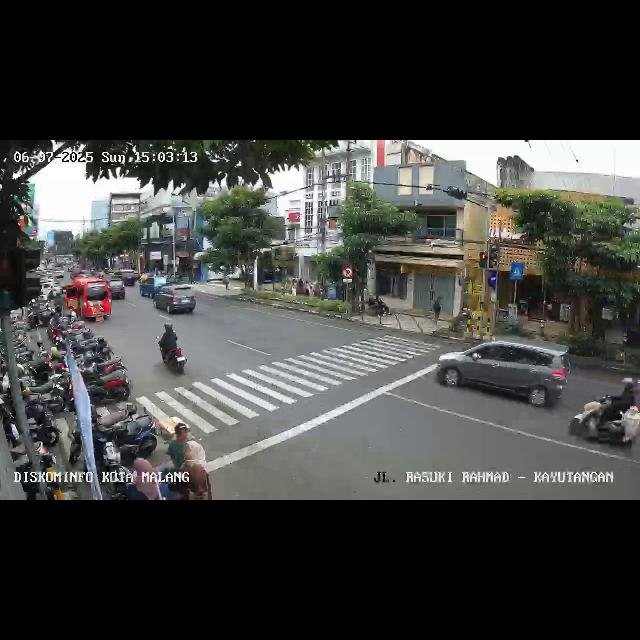car: (442, 338, 568, 410), (64, 279, 112, 323), (153, 285, 197, 317), (138, 276, 166, 300), (106, 280, 128, 302), (115, 268, 139, 284)
motorcycle: (568, 374, 640, 456), (158, 324, 186, 376)
person: (181, 439, 211, 498), (128, 458, 170, 500), (167, 420, 191, 470)
